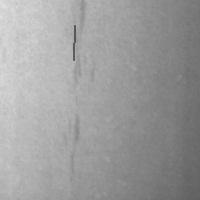inclusion: (69, 1, 95, 113), (64, 108, 88, 190), (71, 23, 76, 62)
